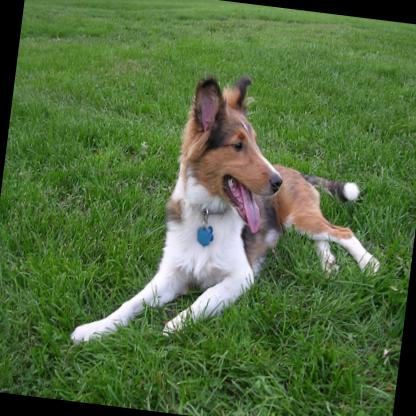Shetland_sheepdog: (64, 54, 404, 381)
